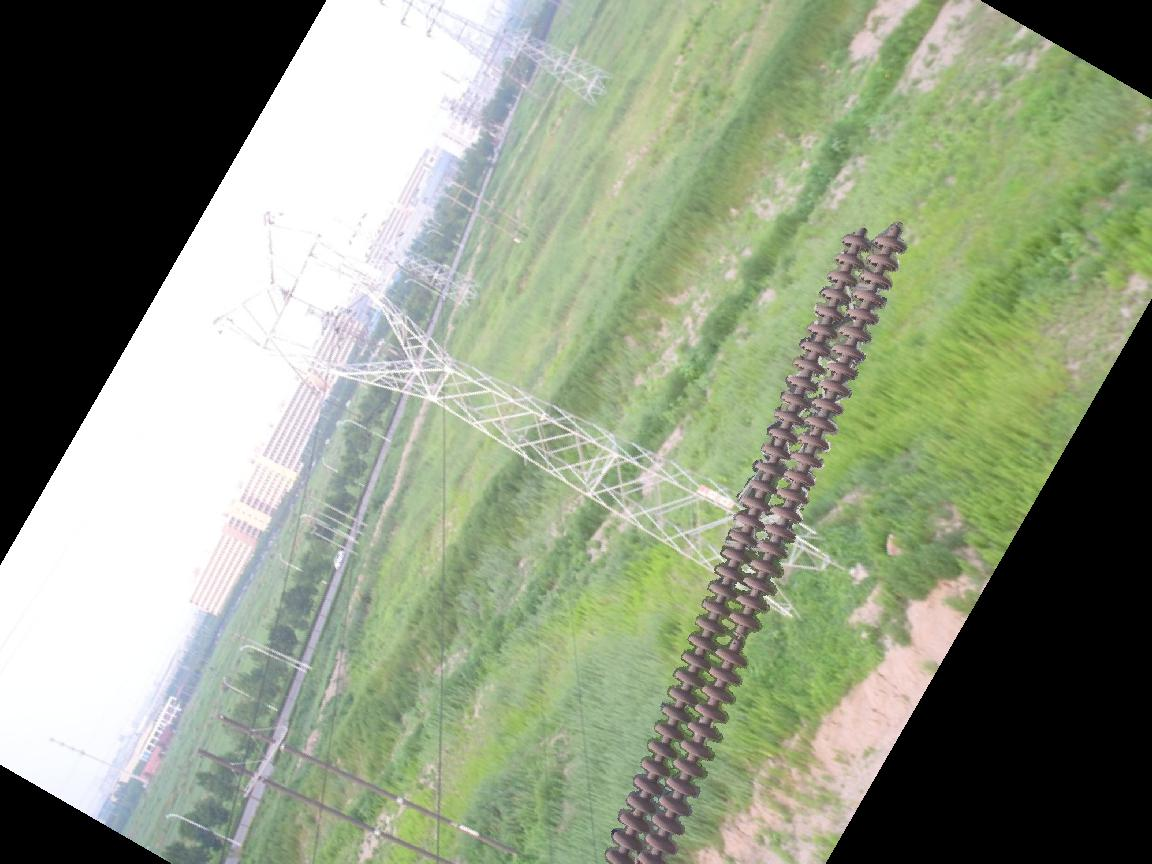insulator: (600, 225, 914, 864)
insulator_stringdrop: (711, 607, 764, 671)
